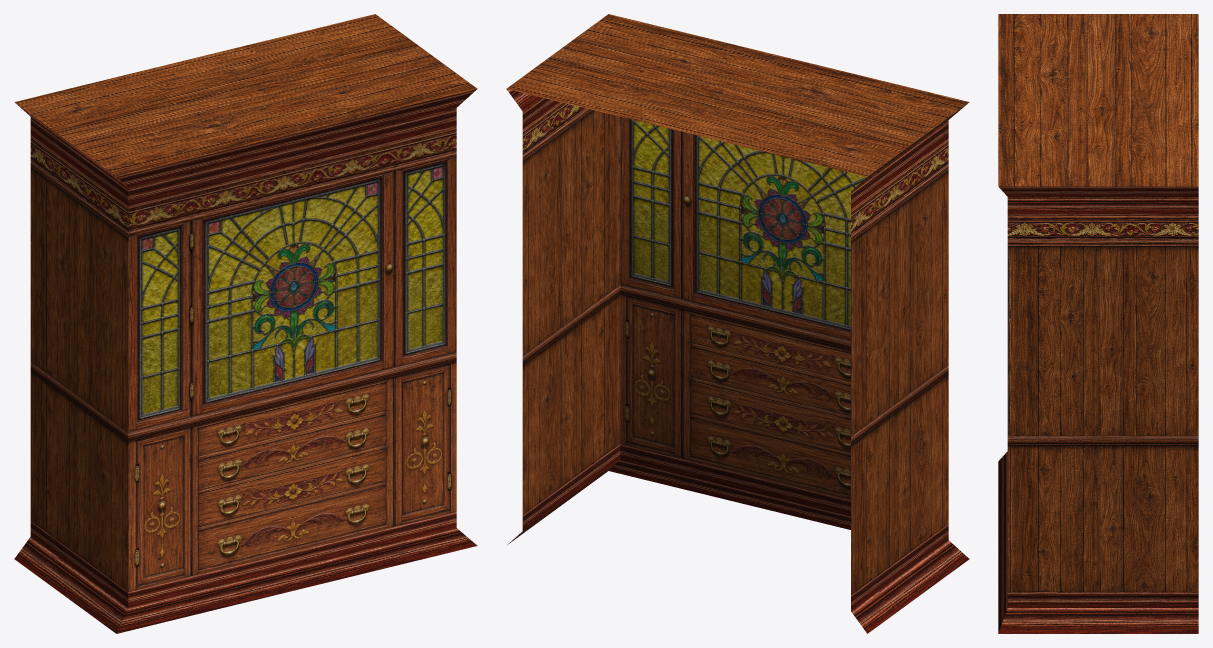
The model's file is mm9_deco_cabinet03.glb.
The picture shows the model from 3 angles, left to right: view 1: azimuth 30°, elevation 25°; view 2: azimuth 150°, elevation 25°; view 3: azimuth 270°, elevation 25°; orthographic projection. The views are drawn at different scales.
Visible parts, largest first — view 1: Cabinet03; view 2: Cabinet03; view 3: Cabinet03.
Part boxes in pixels (x1,y1,x2,y2): Cabinet03: (14, 14, 477, 633); Cabinet03: (506, 14, 969, 633); Cabinet03: (998, 14, 1198, 633).
Size of the model in its own units: 3 by 3.62 by 1.47.
1 material, 1 textured.
